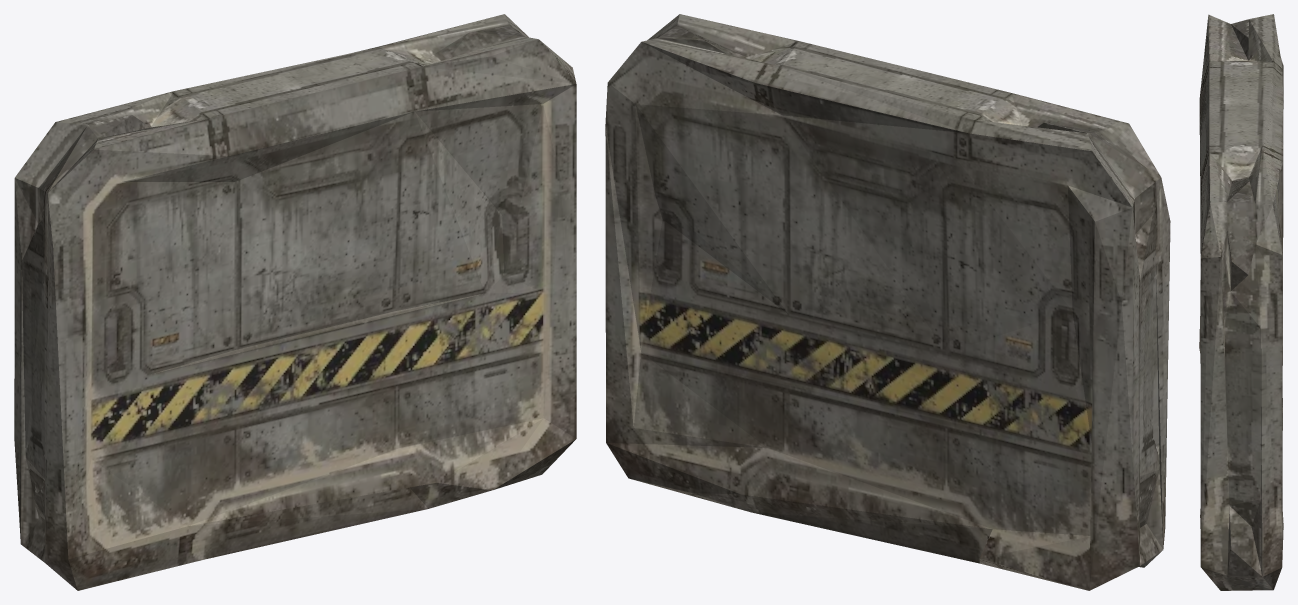
The model's file is struct.gate.door.glb.
3 views of the same model, side by side, from view 1: azimuth 30°, elevation 25°; view 2: azimuth 150°, elevation 25°; view 3: azimuth 270°, elevation 25° (orthographic). The views are drawn at different scales.
Parts seen in each view (by area): view 1: body; view 2: body; view 3: body.
Boxes of the visible parts, <box> form: body: <box>14,14,576,590</box>; body: <box>605,14,1170,590</box>; body: <box>1199,14,1283,590</box>.
Bounding box in the file's own units: 0.9578 × 0.7711 × 0.1522.
1 material, 1 textured.
